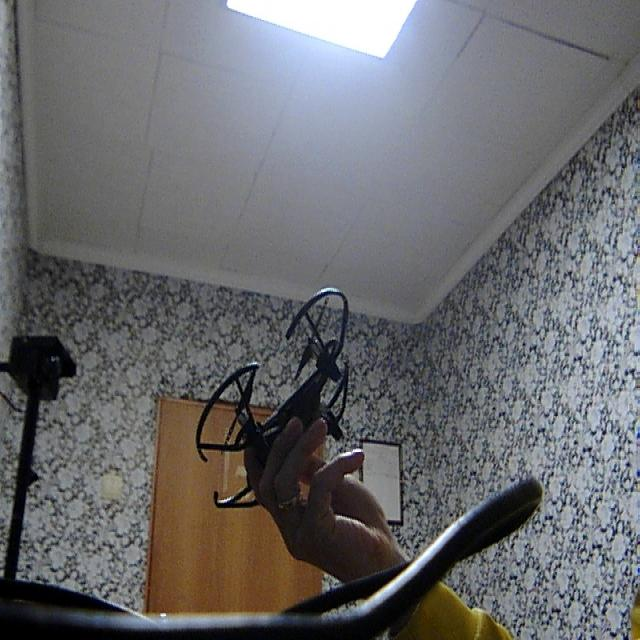drone: (174, 280, 369, 525)
